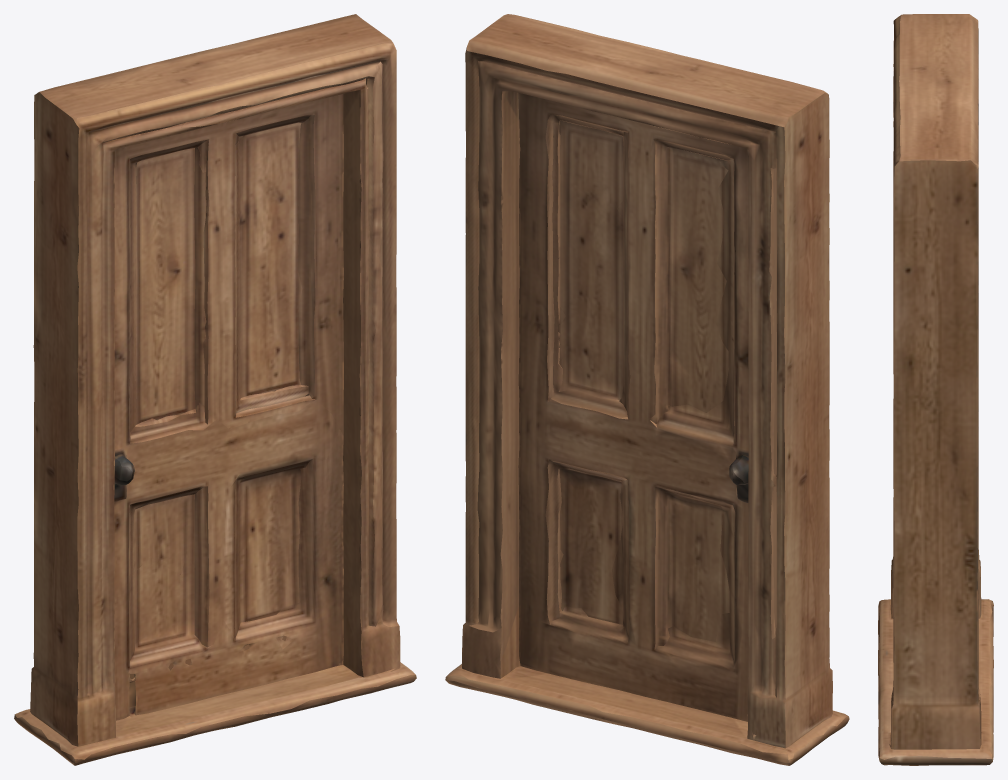
Rendered from anomaly_door.glb.
The picture shows the model from 3 angles, left to right: view 1: azimuth 30°, elevation 25°; view 2: azimuth 150°, elevation 25°; view 3: azimuth 270°, elevation 25°; orthographic projection. The views are drawn at different scales.
Parts seen in each view (by area): view 1: geometry_0; view 2: geometry_0; view 3: geometry_0.
Boxes of the visible parts, x1,y1,x2,y2 form: geometry_0: [14, 14, 416, 765]; geometry_0: [445, 14, 849, 765]; geometry_0: [878, 14, 993, 765].
Size of the model in its own units: 2.1 by 3.72 by 0.6495.
Materials: 1 (1 with a texture image).
